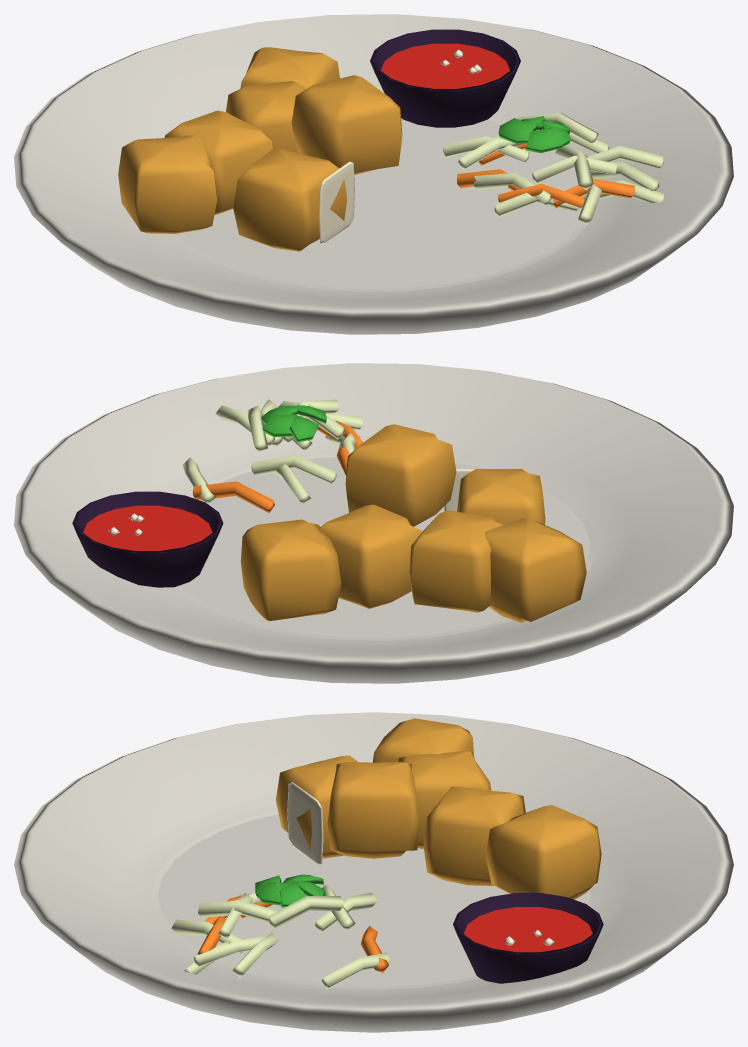
3 renders of one model, top to bottom at view 1: azimuth 30°, elevation 25°; view 2: azimuth 150°, elevation 25°; view 3: azimuth 270°, elevation 25°, orthographic.
Parts seen in each view (by area): view 1: plate, tofu, plate_well, cabbage, sauce_dish, chili_sauce, tofu_inside, cilantro; view 2: plate, tofu, plate_well, cabbage, sauce_dish, chili_sauce, cilantro; view 3: plate, tofu, plate_well, cabbage, sauce_dish, chili_sauce, tofu_inside, cilantro.
Boxes of the visible parts, left/top/right/bottom form: plate: left=14, top=14, right=733, bottom=334; tofu: left=118, top=47, right=402, bottom=251; plate_well: left=176, top=118, right=581, bottom=288; cabbage: left=443, top=113, right=664, bottom=224; sauce_dish: left=370, top=29, right=520, bottom=127; chili_sauce: left=381, top=43, right=509, bottom=88; tofu_inside: left=319, top=161, right=354, bottom=243; cilantro: left=498, top=116, right=570, bottom=152; plate: left=14, top=363, right=733, bottom=683; tofu: left=240, top=424, right=586, bottom=622; plate_well: left=179, top=457, right=589, bottom=637; cabbage: left=182, top=399, right=363, bottom=512; sauce_dish: left=72, top=491, right=223, bottom=587; chili_sauce: left=83, top=505, right=212, bottom=550; cilantro: left=261, top=405, right=326, bottom=442; plate: left=14, top=712, right=733, bottom=1032; tofu: left=276, top=718, right=601, bottom=899; plate_well: left=158, top=814, right=589, bottom=986; cabbage: left=171, top=884, right=391, bottom=989; sauce_dish: left=453, top=893, right=603, bottom=983; chili_sauce: left=464, top=907, right=592, bottom=952; tofu_inside: left=287, top=782, right=323, bottom=864; cilantro: left=255, top=874, right=325, bottom=907.
Size of the model in its own units: 0.21 by 0.0447 by 0.21.
